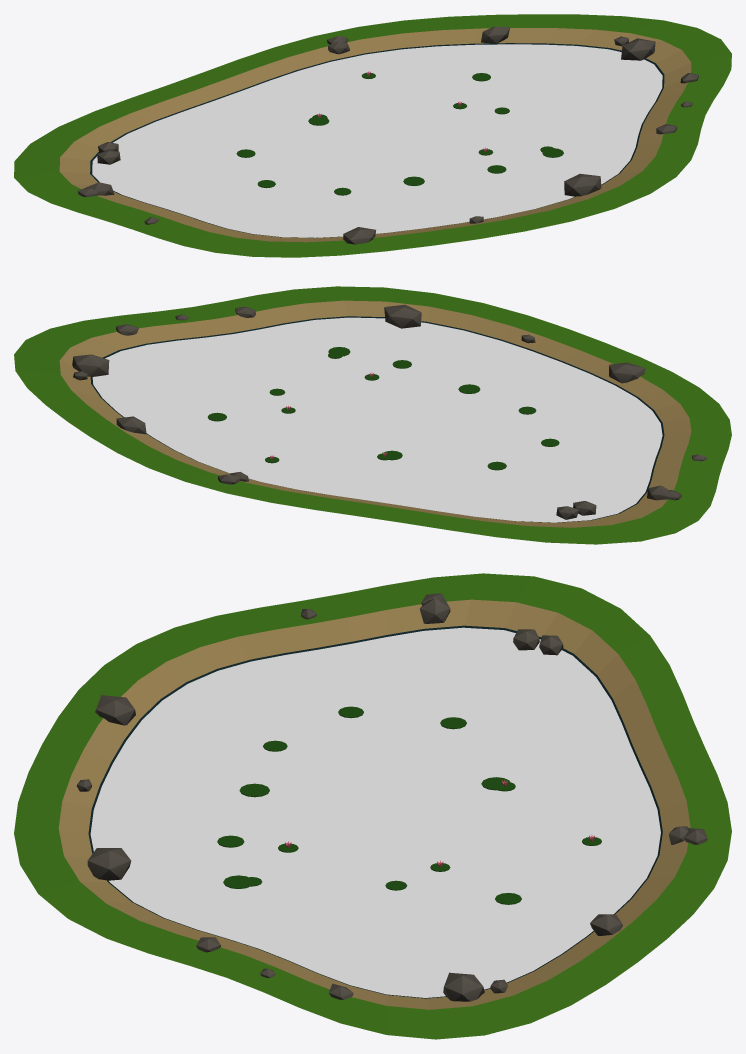
File: ENV_Water_Lake.fbx
3 views of the same model, one above another, from view 1: azimuth 30°, elevation 25°; view 2: azimuth 150°, elevation 25°; view 3: azimuth 270°, elevation 25° (orthographic). The views are drawn at different scales.
Visible parts, largest first — view 1: ENV_Water_Lake_Surface, ENV_Water_Lake_Shore; view 2: ENV_Water_Lake_Surface, ENV_Water_Lake_Shore; view 3: ENV_Water_Lake_Surface, ENV_Water_Lake_Shore.
Part boxes in pixels (<box>): ENV_Water_Lake_Surface: <box>92,44,662,237</box>; ENV_Water_Lake_Shore: <box>14,14,731,257</box>; ENV_Water_Lake_Surface: <box>92,317,662,522</box>; ENV_Water_Lake_Shore: <box>14,286,731,544</box>; ENV_Water_Lake_Surface: <box>90,627,660,997</box>; ENV_Water_Lake_Shore: <box>14,573,731,1039</box>.
Size of the model in its own units: 38.86 by 1.54 by 25.29.
